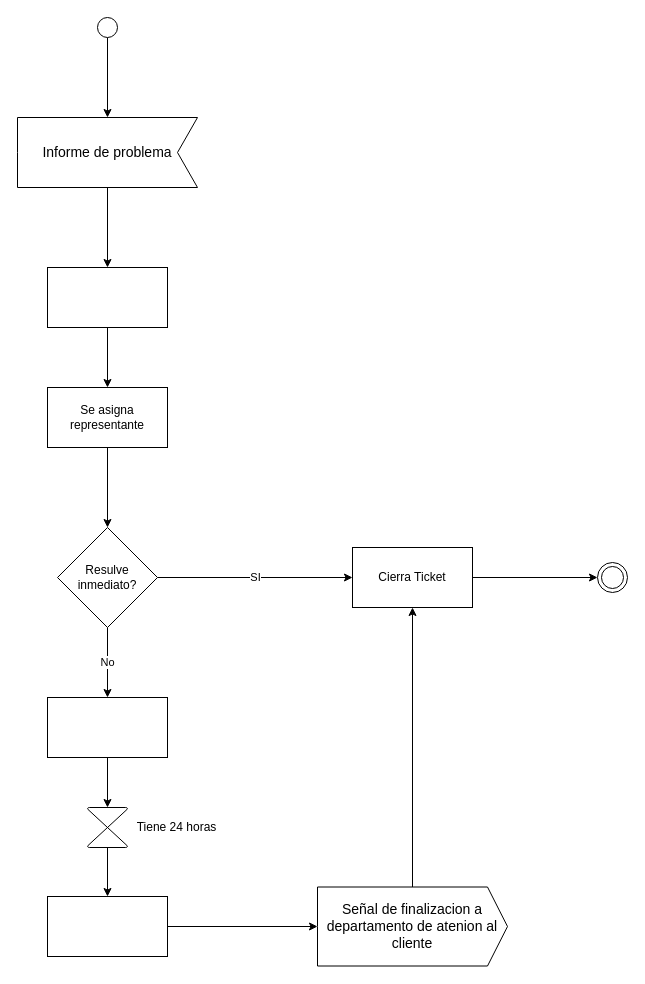
The diagram is 645 pixels wide and 984 high, and some of its shapes have lost their labels. The shapes that lost their labels are listed below. From the top down, each one's centre as x and y in pixels, then its label:
(x=107, y=297): Crear ticket de problema
(x=107, y=727): Se envia tecnico de campo
(x=107, y=926): Tecnico resulve problema
